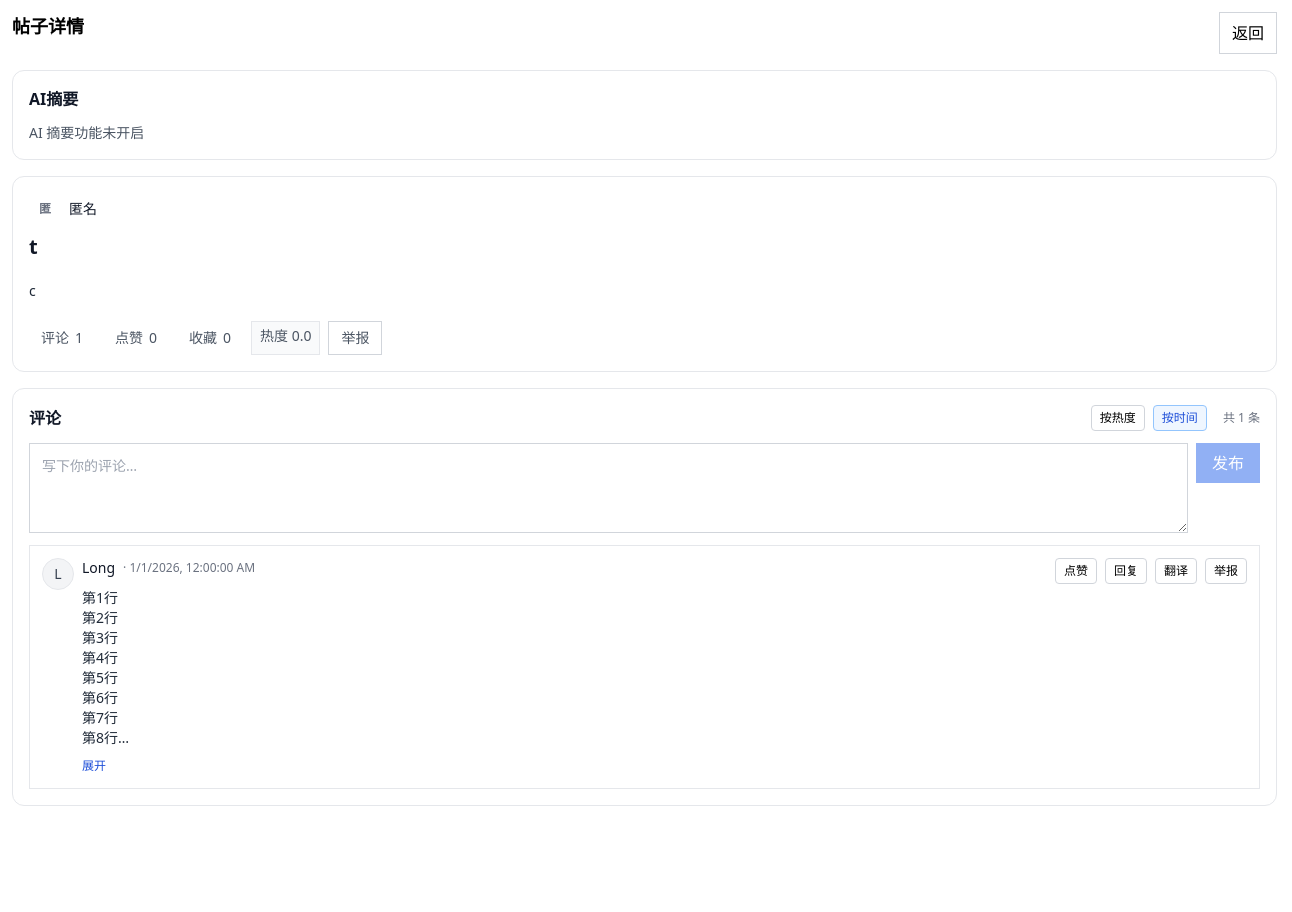
Test: PostDetailPage (comments) › shows expand button when comment content exceeds 8 lines and toggles collapse
Click the button "展开": (94, 766) x1=82 y1=758 x2=106 y2=774
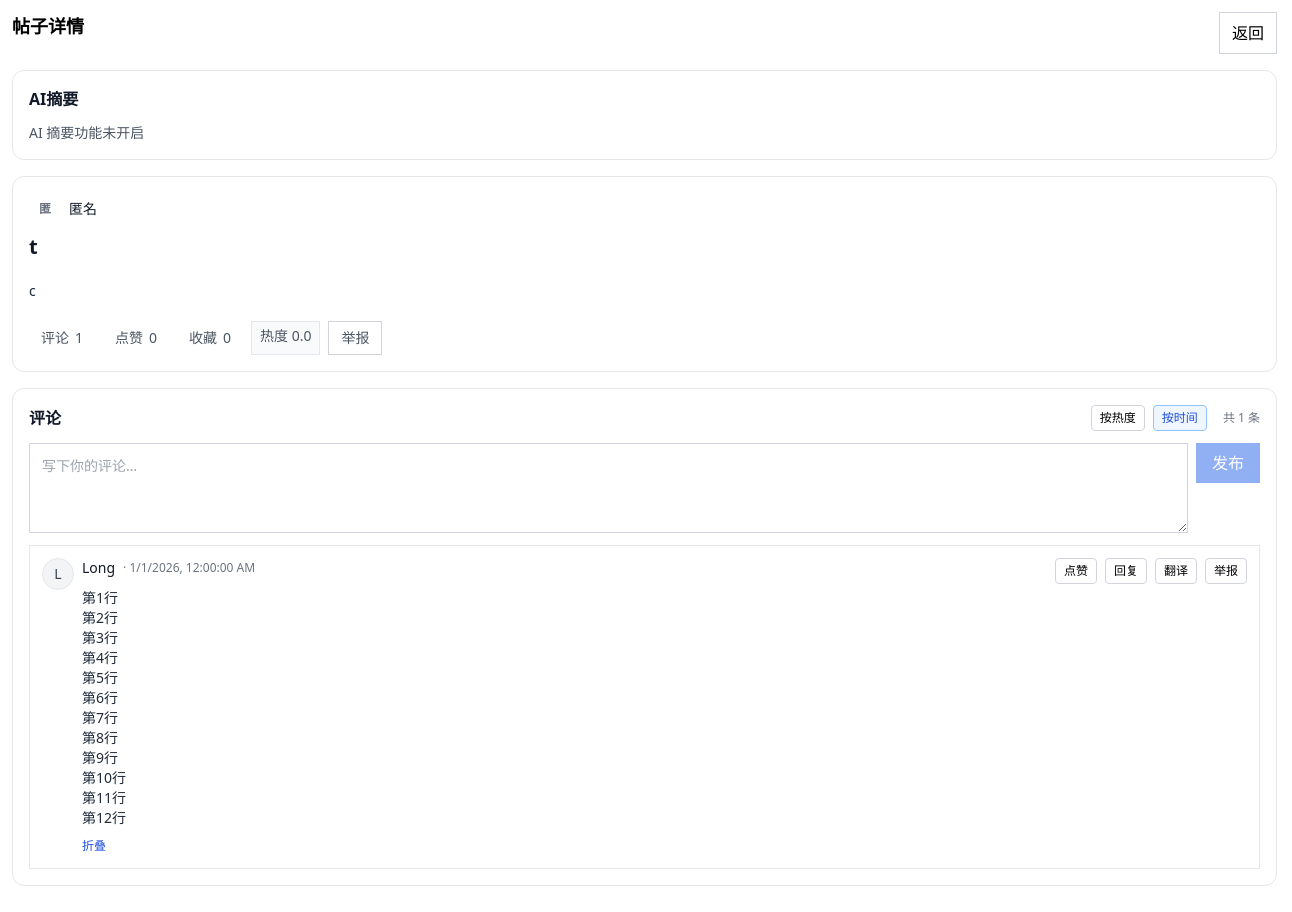
Check: the button "折叠" is shown
Click the button "折叠": (94, 846) x1=82 y1=838 x2=106 y2=854
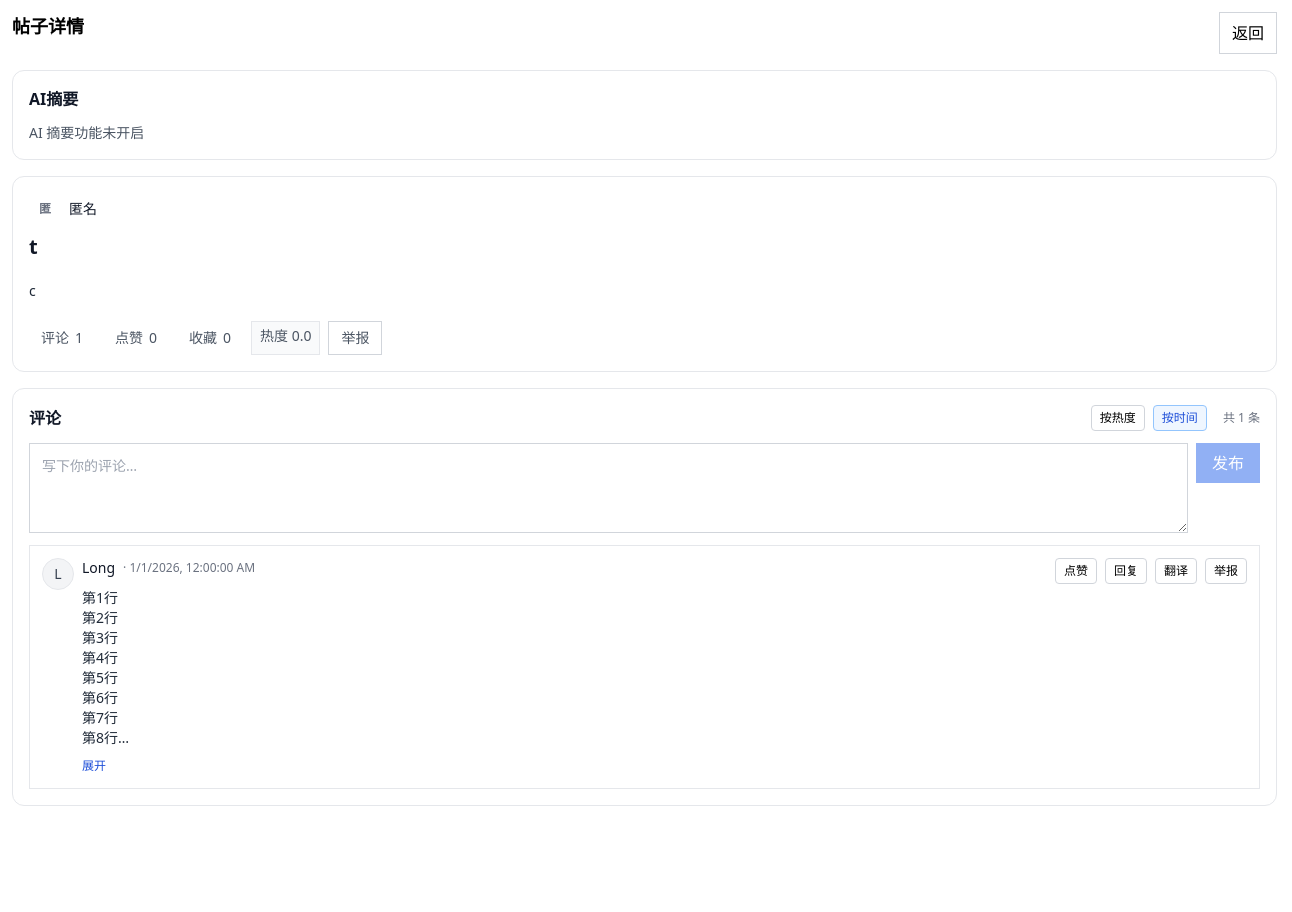
Check: the button "展开" is shown, box x1=82 y1=758 x2=106 y2=774
